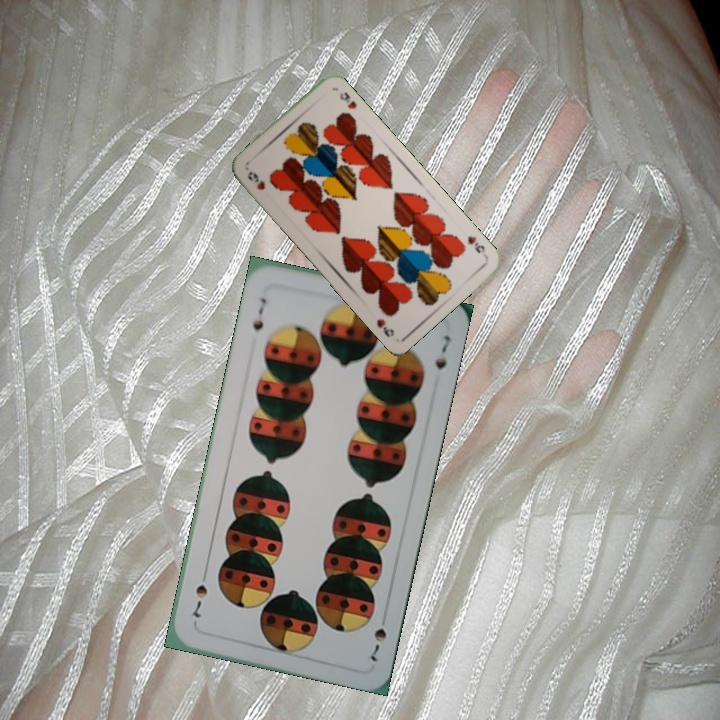H9: (243, 167, 268, 193), (463, 232, 488, 256)
S7: (366, 608, 390, 665), (248, 293, 269, 334)
